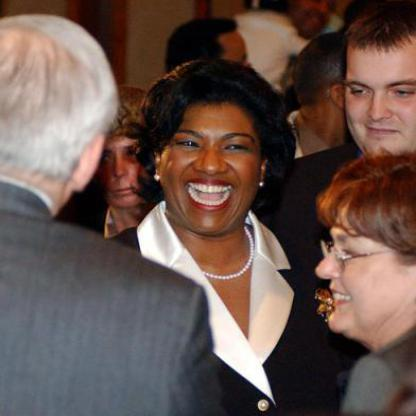face: (162, 68, 267, 238), (92, 99, 162, 211)
